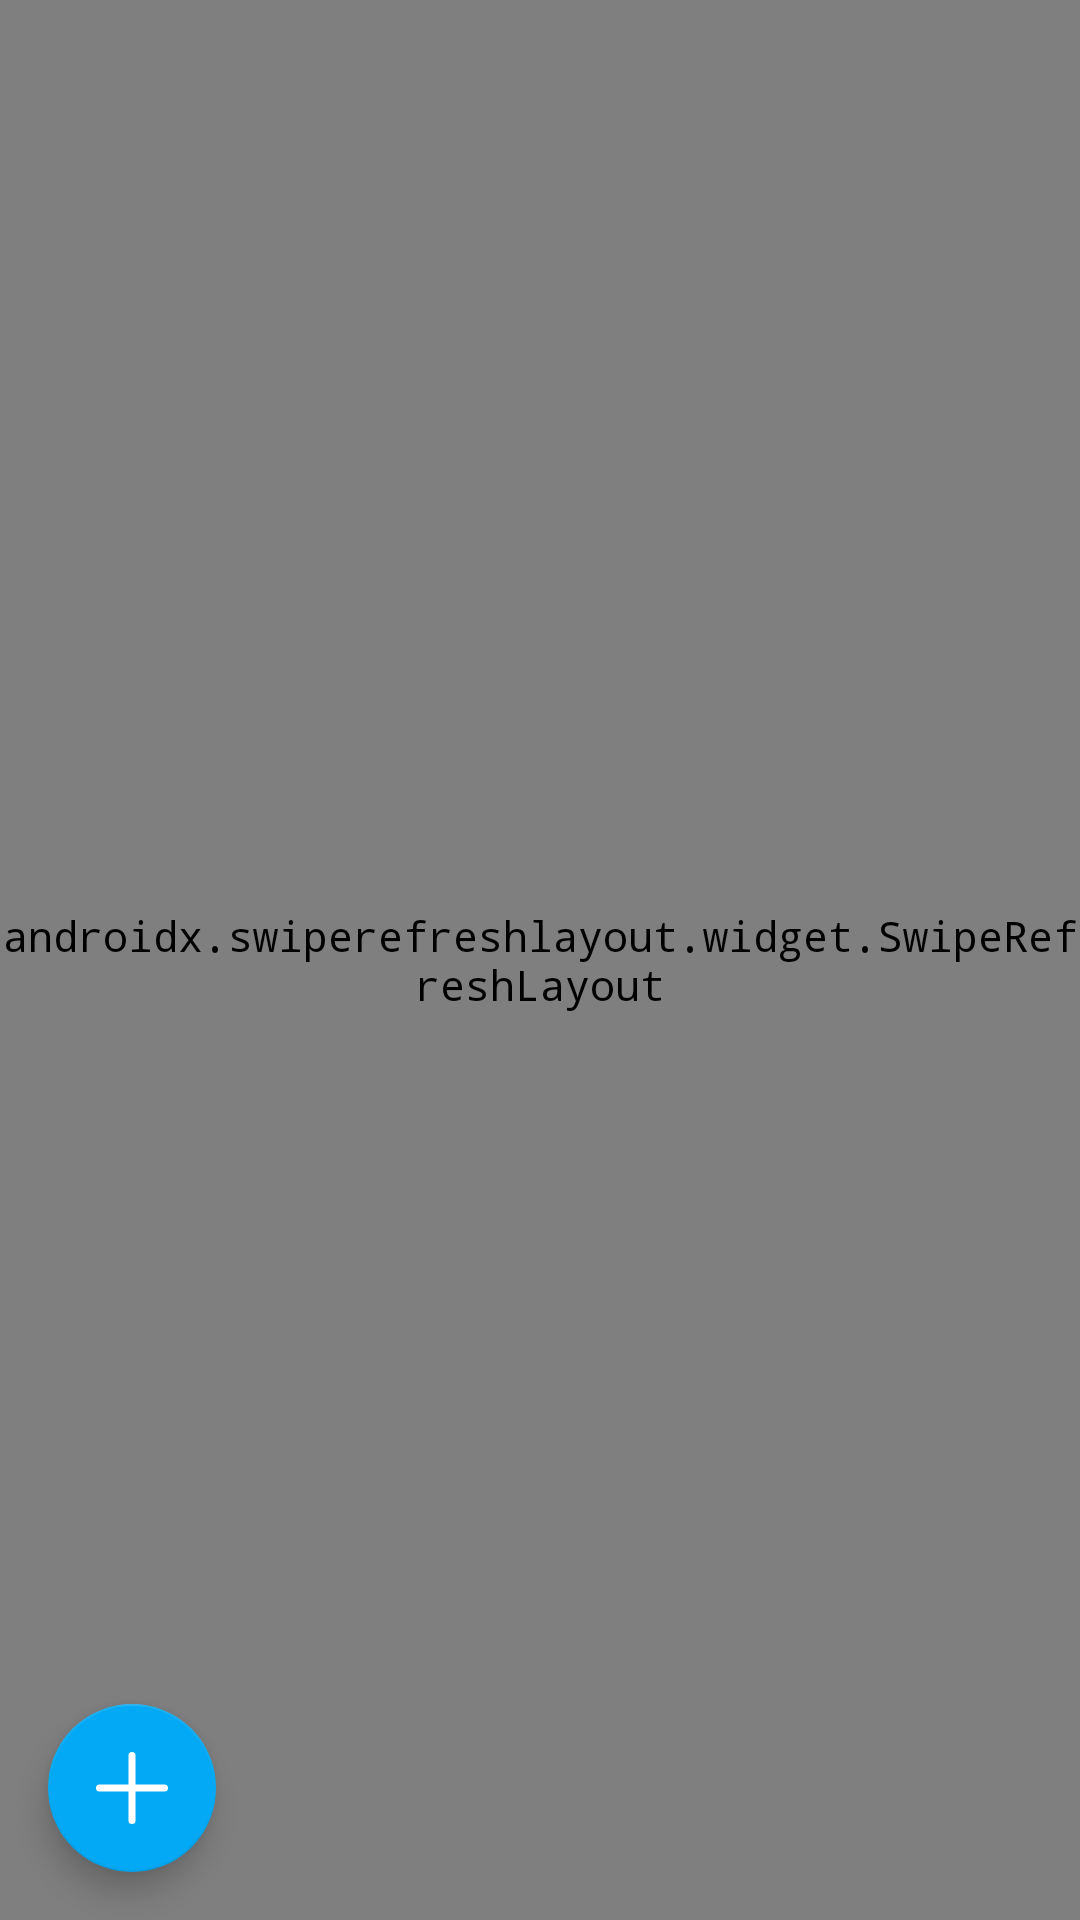

Named icons in this screenshot (1080*1920) and their centers, [x,y]:
add: [132,1788]
